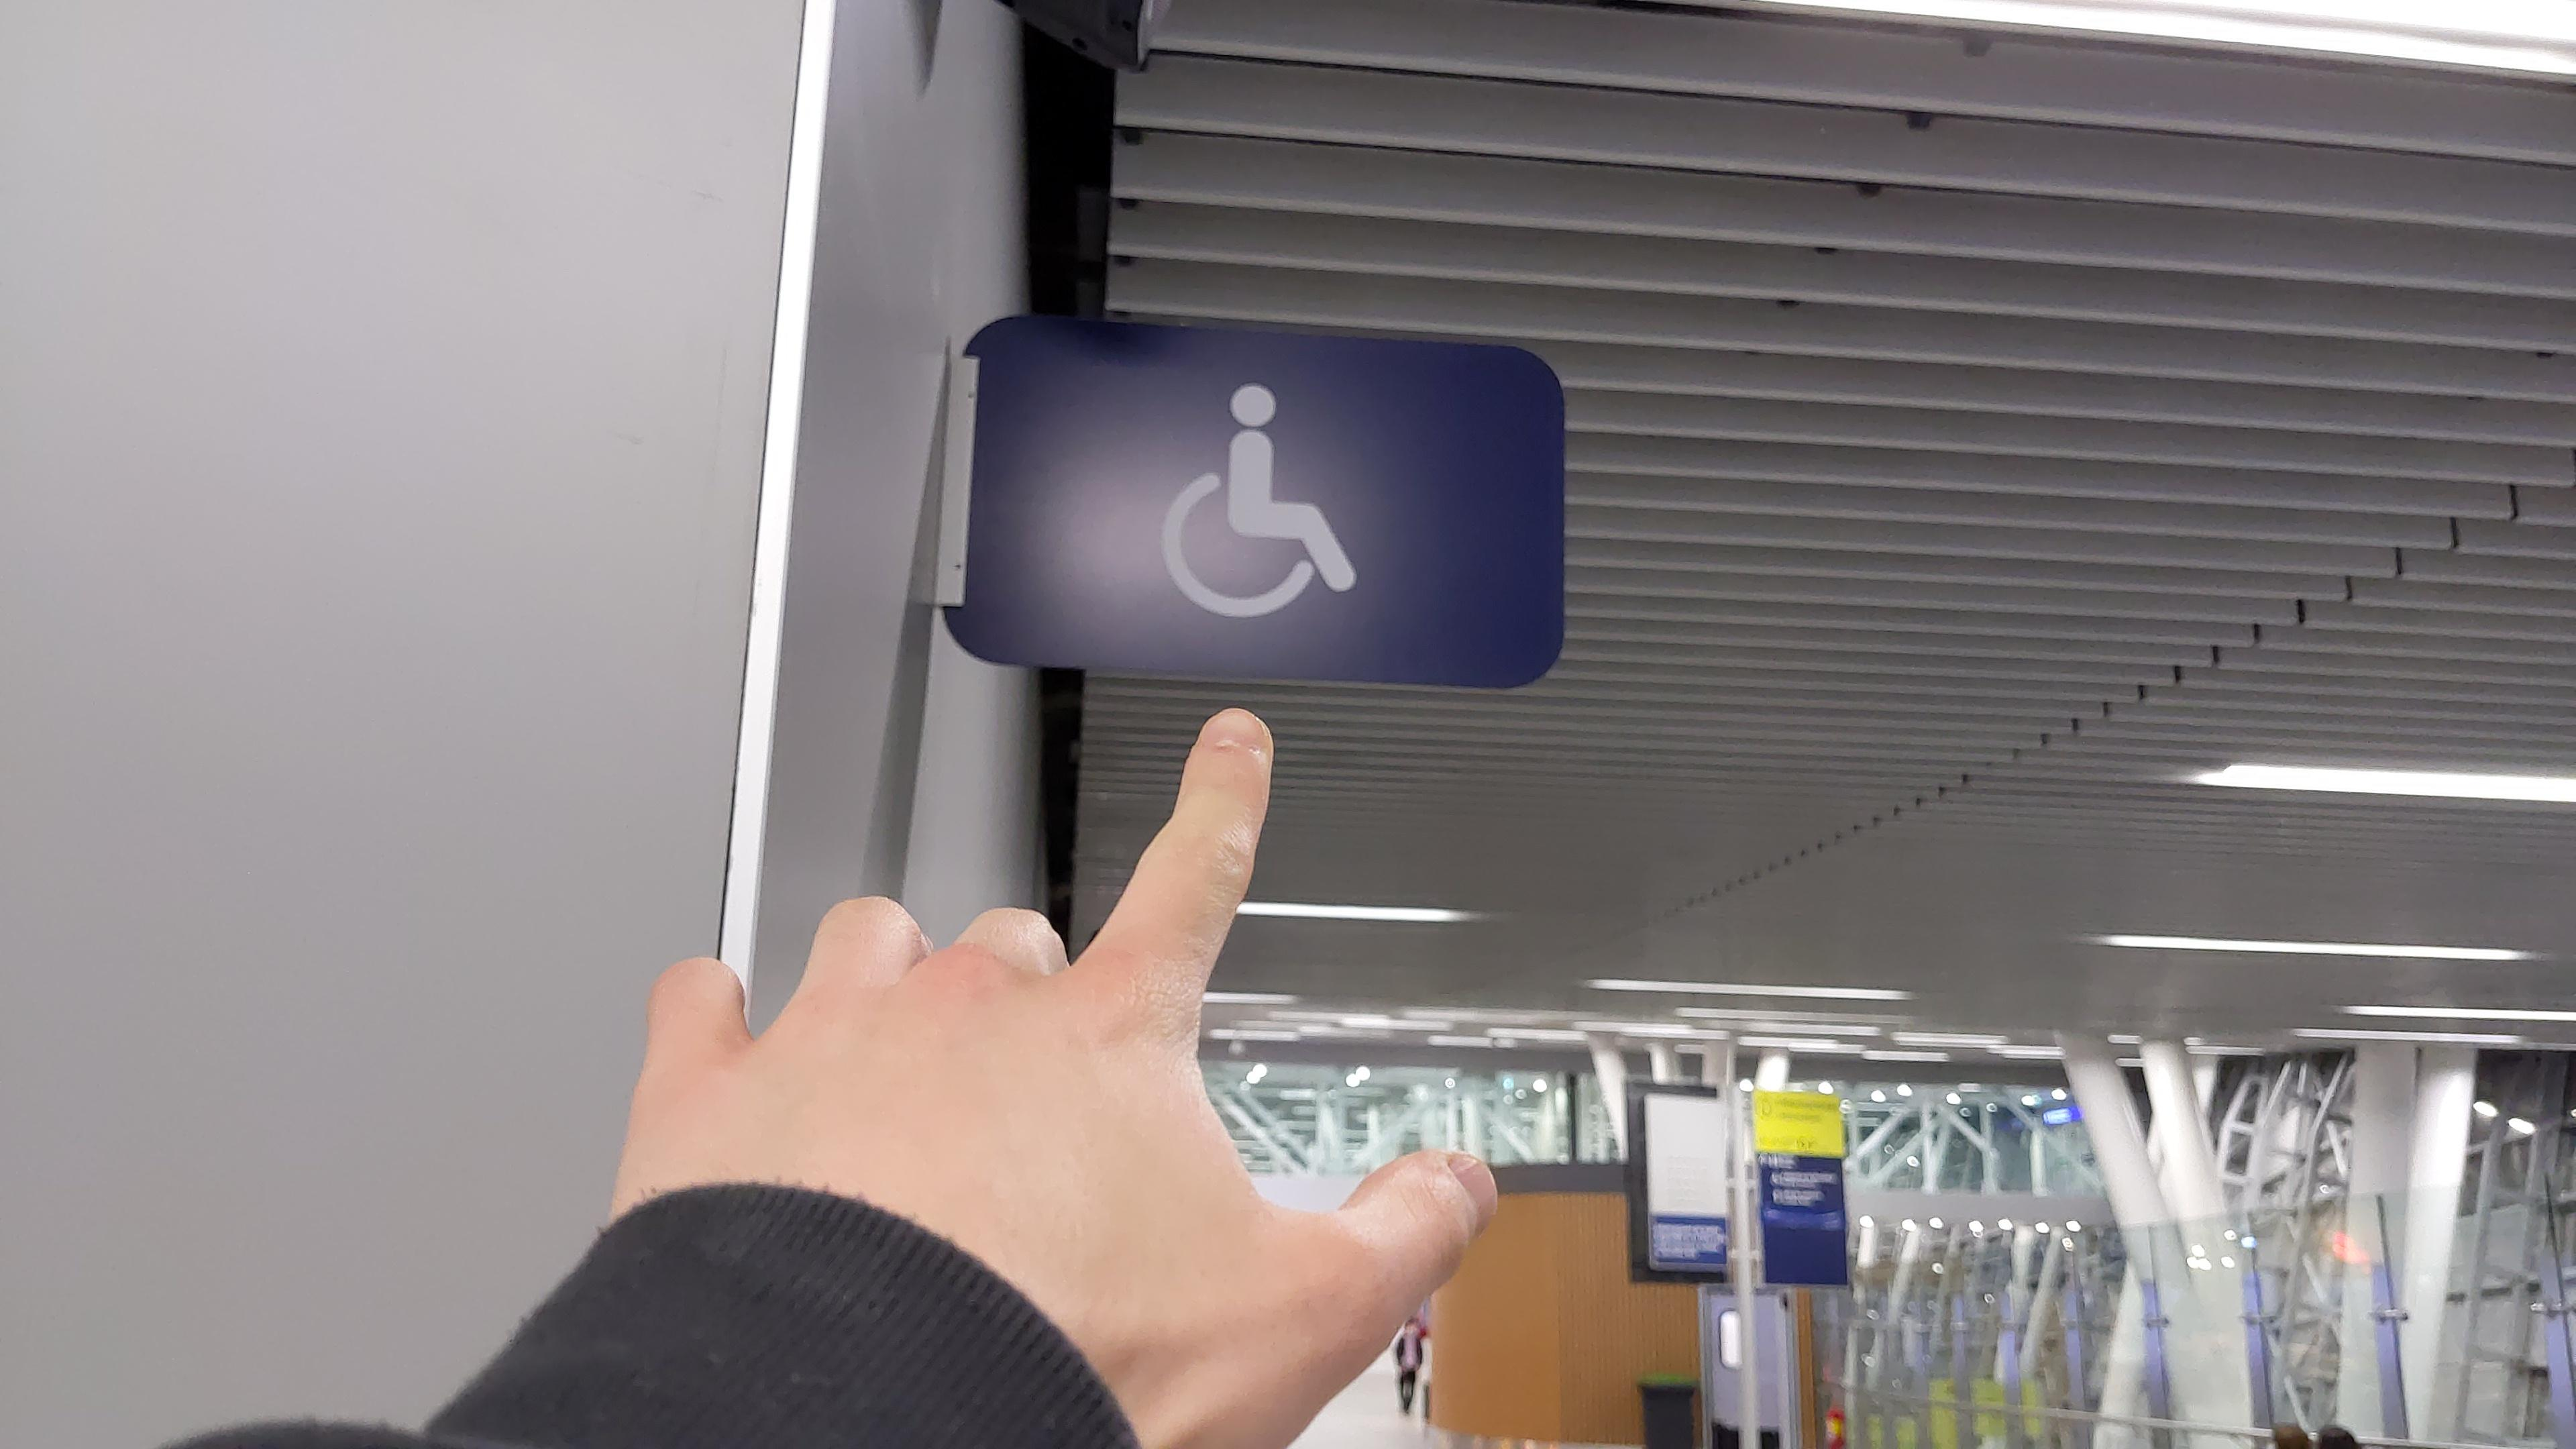handicapped symbol: (1152, 379, 1364, 623)
